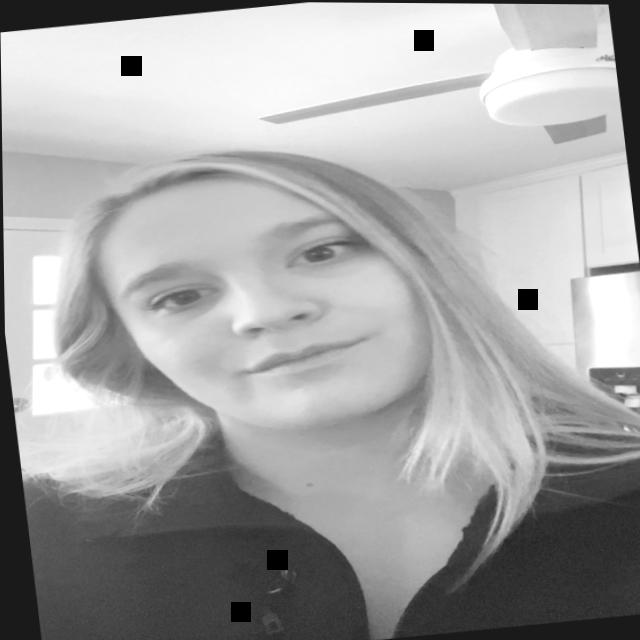NO-Mask: (62, 137, 502, 481)
